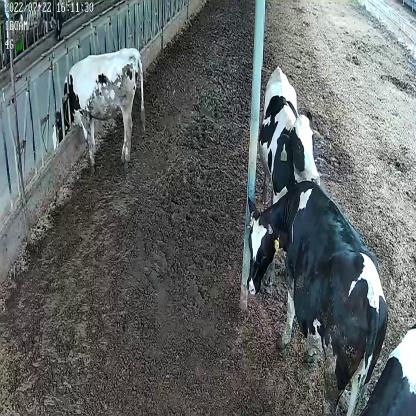cow: (244, 177, 388, 416), (49, 48, 148, 172), (258, 63, 322, 220)
